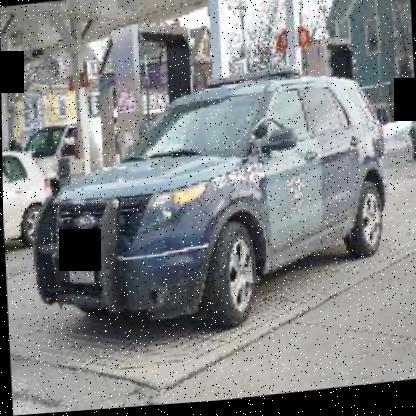emergency: (31, 65, 407, 370)
